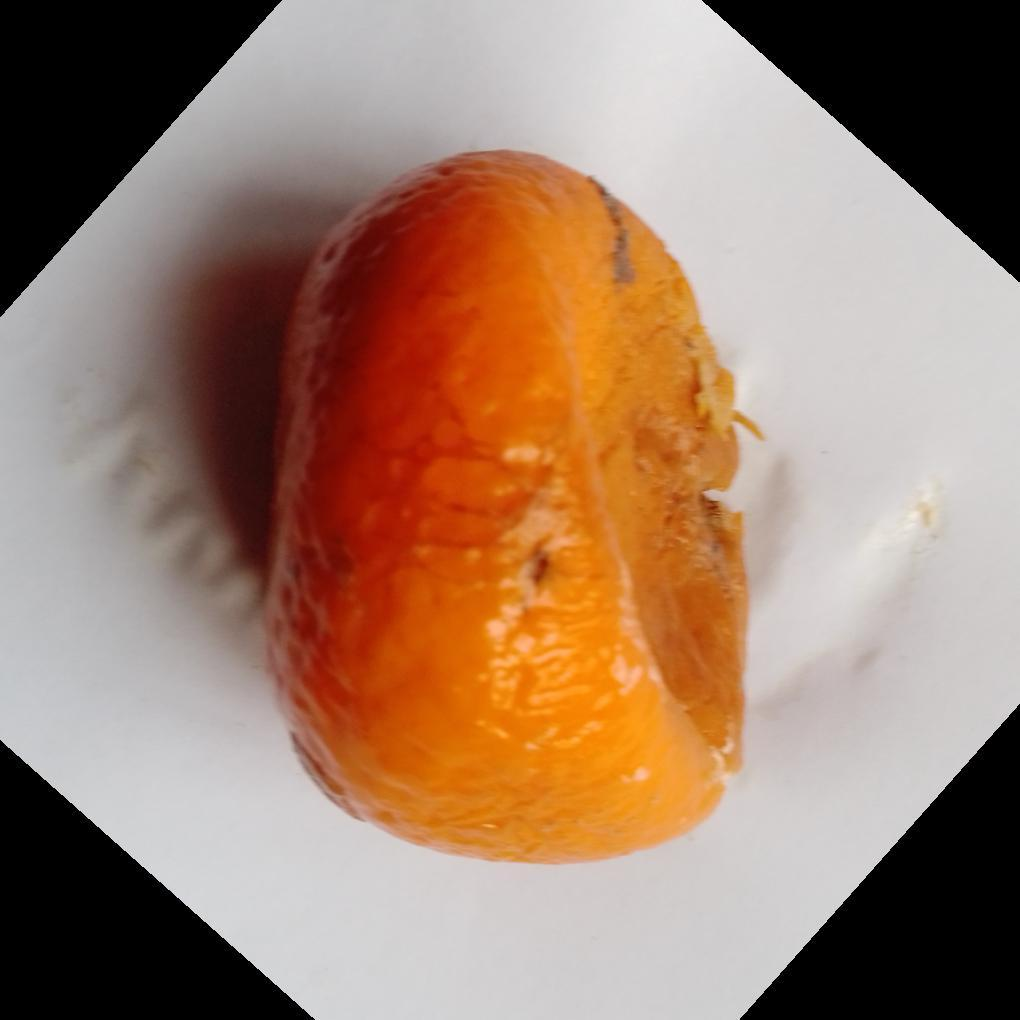FreshOrange: (257, 150, 750, 869)
